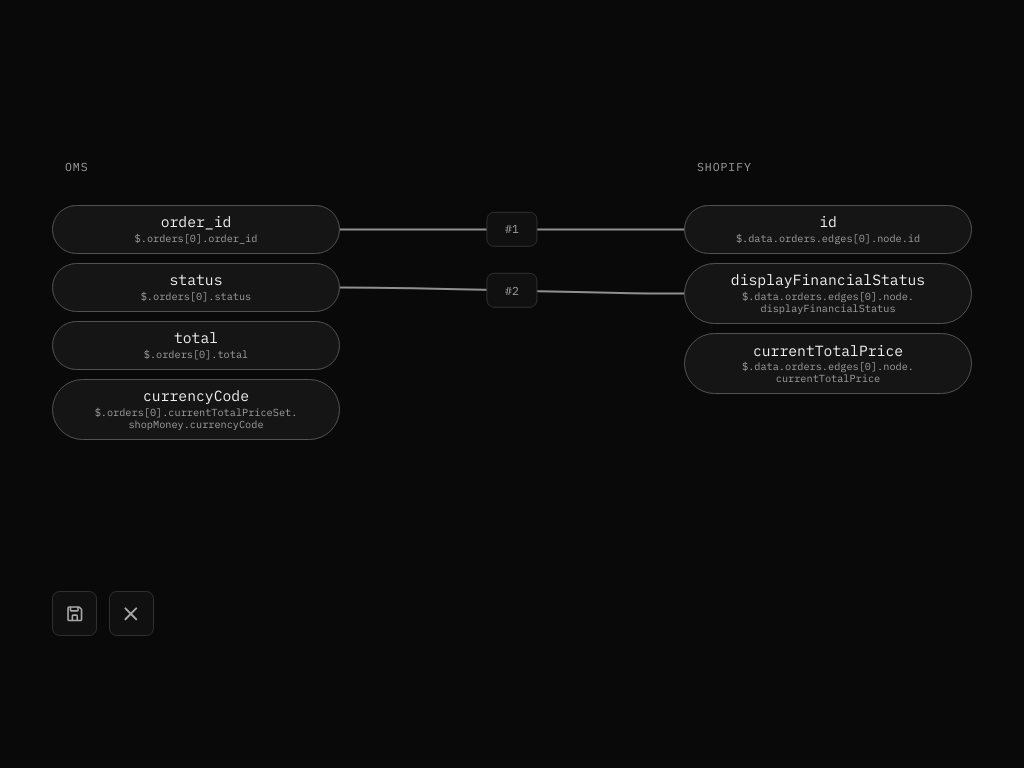
Test: ReconciliationRuleSetEditorPage › highlights the rule line and both connected field bubbles on operator hover and while the popover is open
Hover over the button with test id "ruleset-rule-operator-rule-2" at (512, 290), box [486, 273, 538, 307]
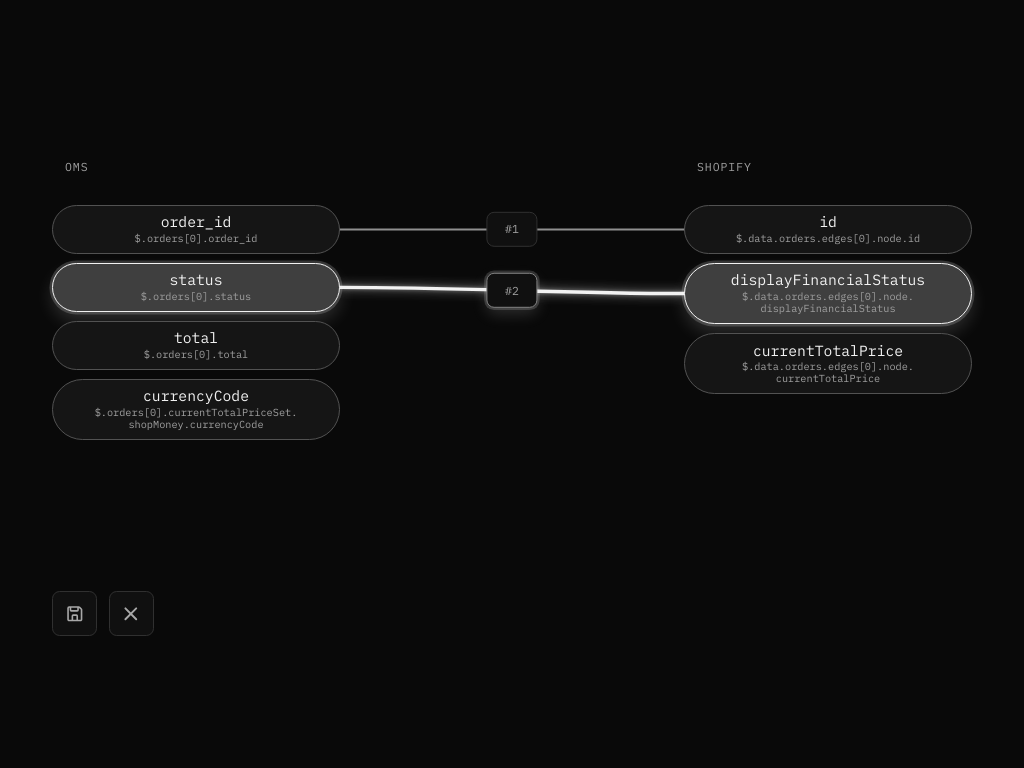
Expected: the button with test id "ruleset-field-file1-1" has class "ruleset-field-item--rule-active", [52, 263, 340, 312]
Expected: the button with test id "ruleset-field-file2-1" has class "ruleset-field-item--rule-active", [684, 263, 972, 324]
Move the pointer off the button with test id "ruleset-rule-operator-rule-2", box [486, 273, 538, 307]
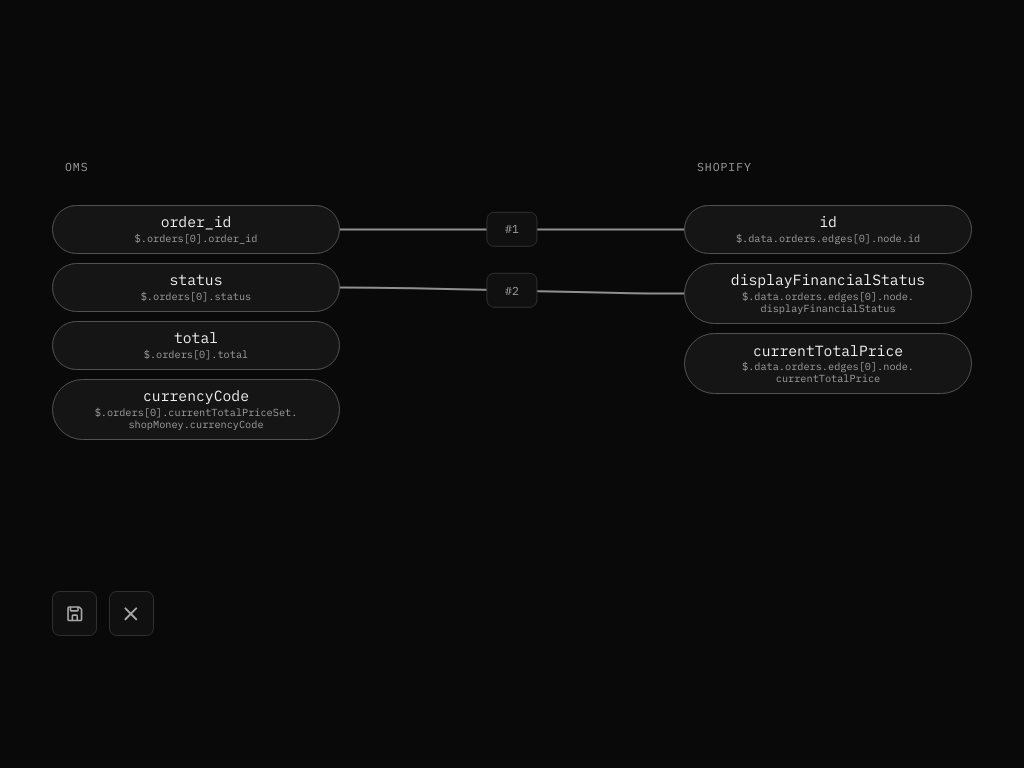
Click the button with test id "ruleset-rule-operator-rule-2" at (512, 290), box [486, 273, 538, 307]
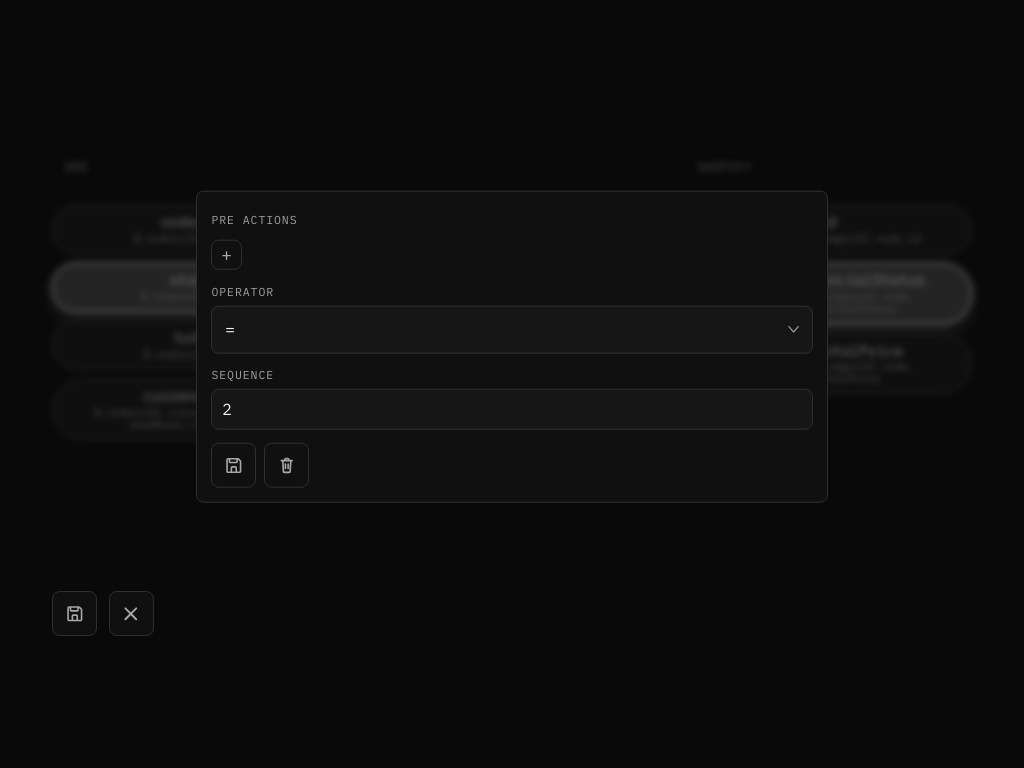
Expected: the dialog with test id "ruleset-rule-popover" is shown, [196, 190, 828, 503]
